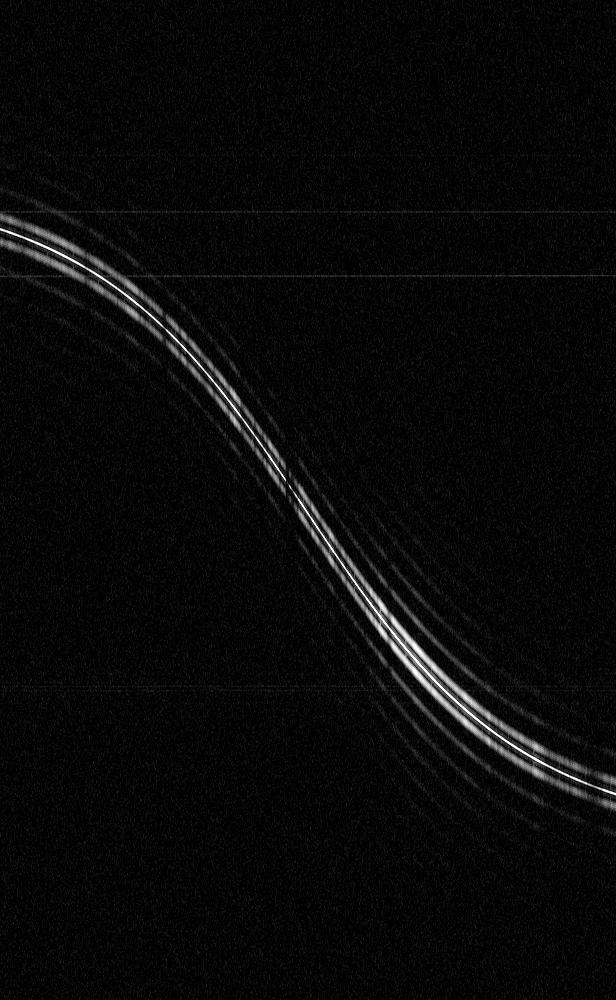signal: (0, 0, 615, 999)
